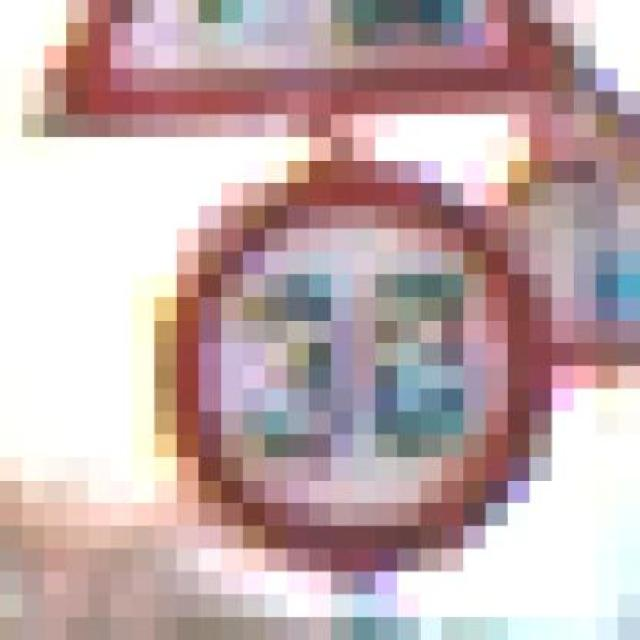Speed Limit 30 KMPh: (110, 137, 596, 594)
